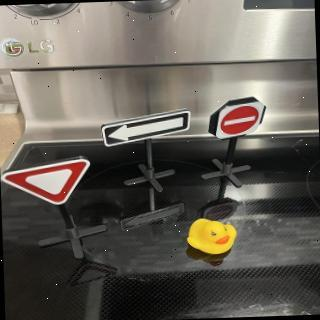duck_regular: (187, 218, 239, 256)
sign_noentry: (214, 98, 269, 143)
sign_oneway_left: (101, 111, 193, 149)
sign_yield: (1, 158, 93, 209)
